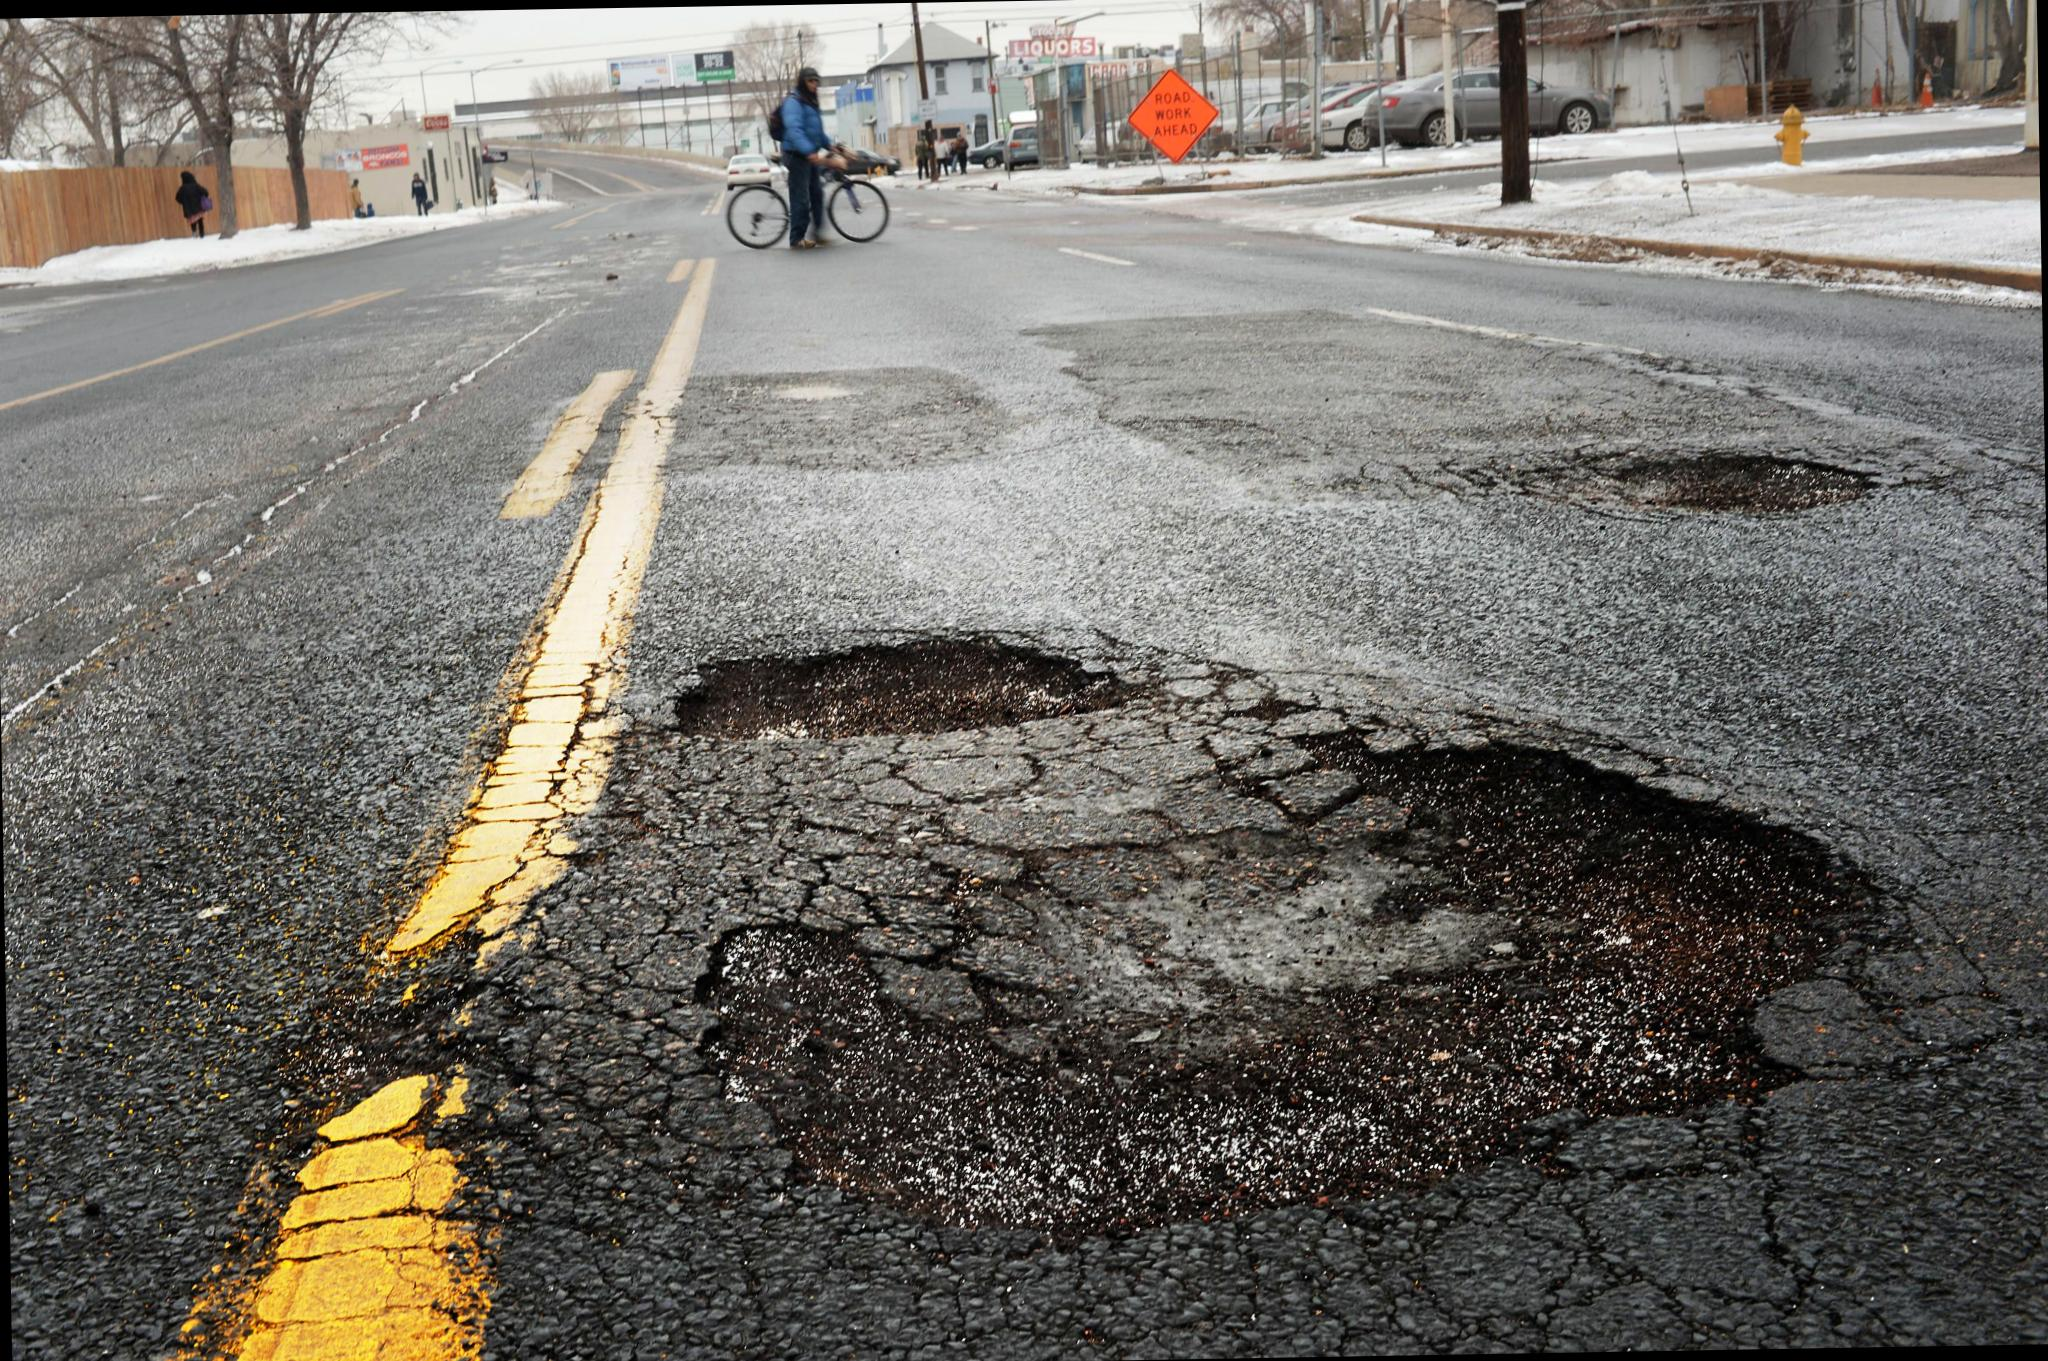pothole: (678, 712, 1886, 1245), (1426, 400, 1921, 568), (659, 616, 1153, 767), (612, 338, 980, 520)
